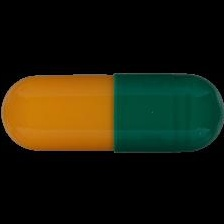61919-042: (0, 0, 224, 224)
